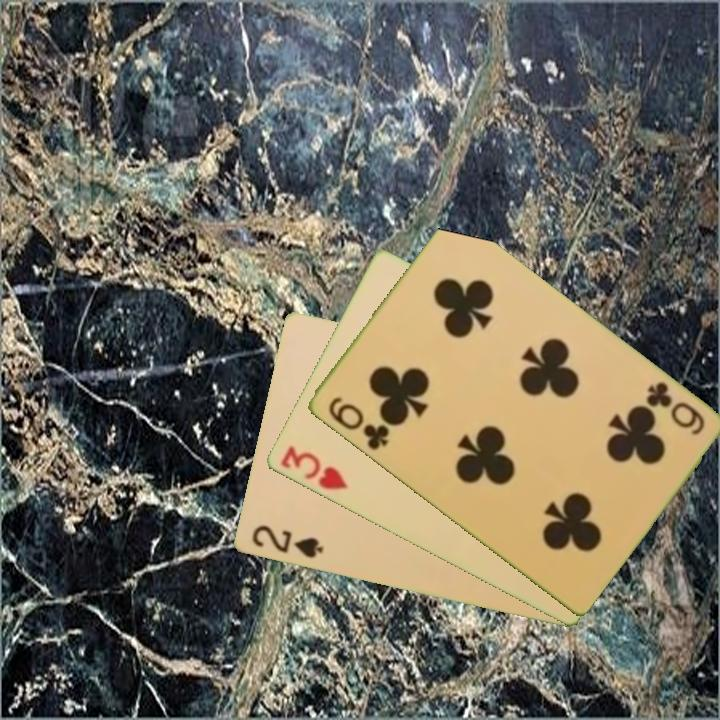2s: (248, 522, 326, 562)
3h: (276, 442, 350, 493)
6c: (324, 393, 392, 454), (641, 378, 708, 438)
